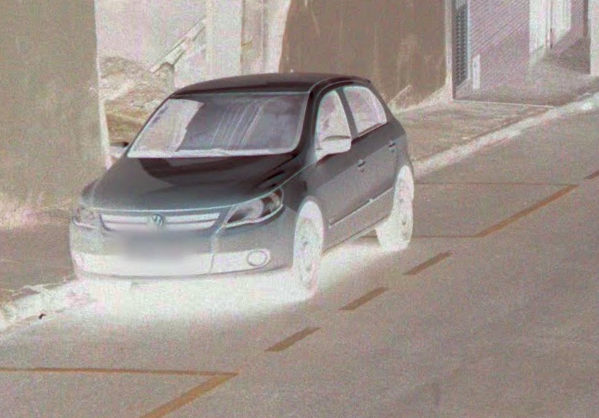car: (63, 67, 421, 312)
